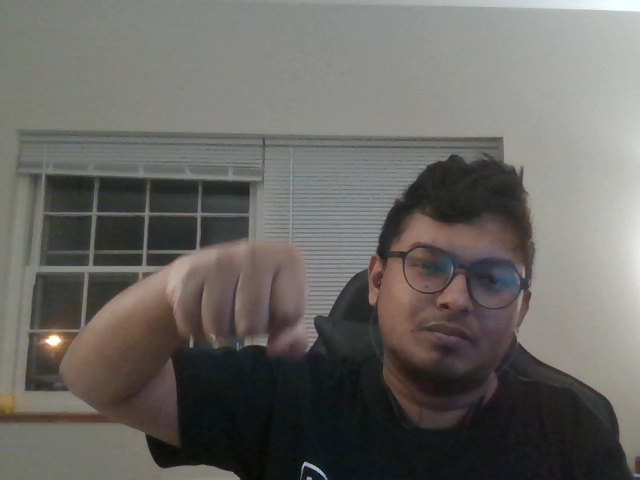yes: (131, 237, 334, 380)
